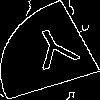Y: (25, 24, 87, 79)
